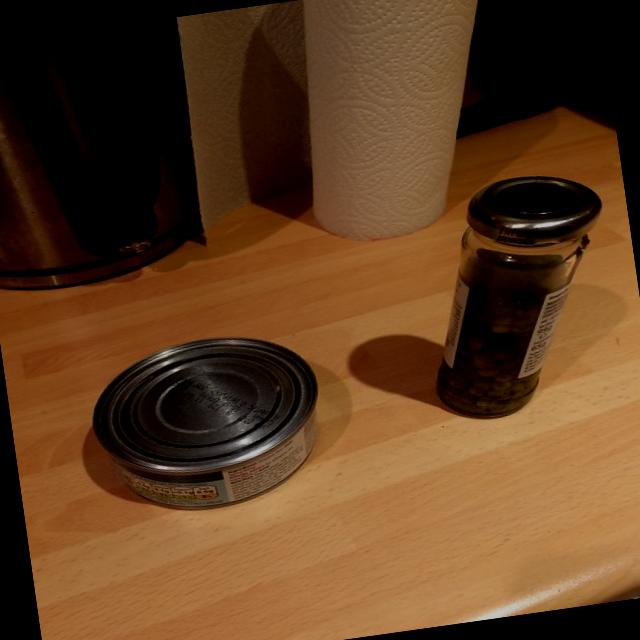Recycle: (65, 317, 358, 513)
Trash: (430, 171, 618, 435)
